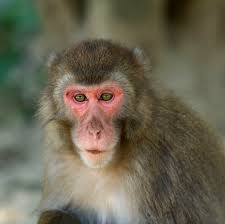monkey: (37, 19, 213, 224)
